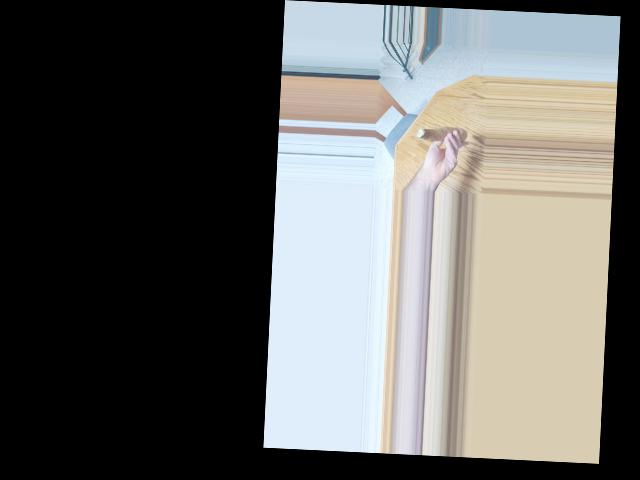sweet_potato: (422, 120, 463, 141)
